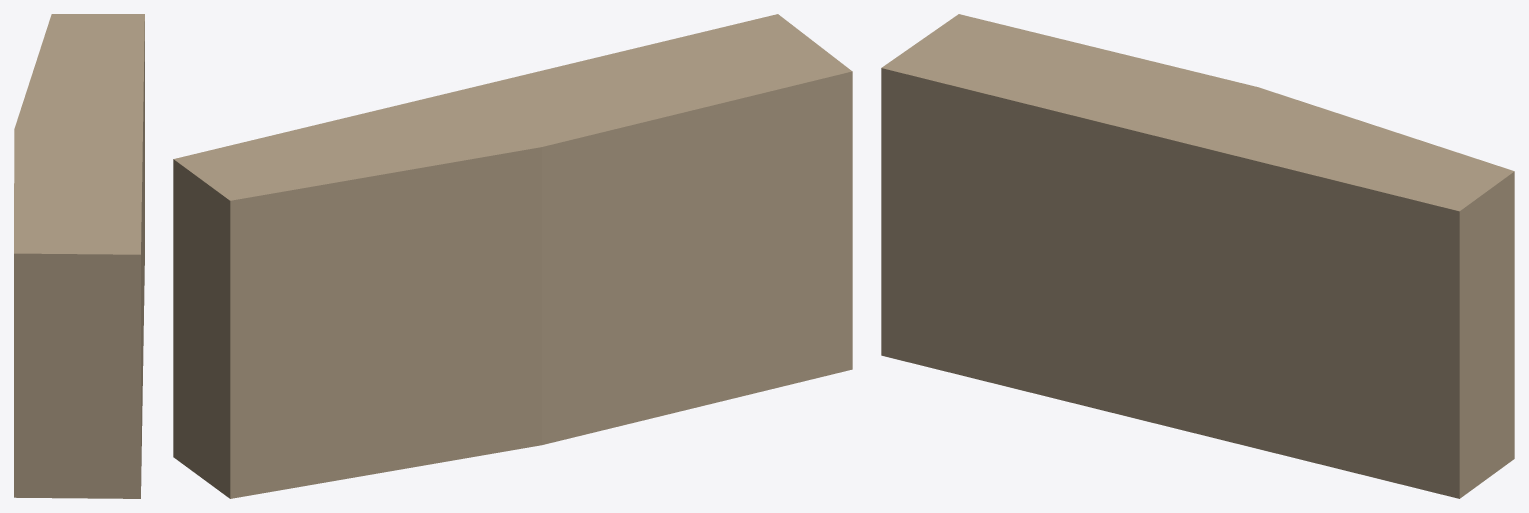
The model's file is bld_99020375.dae.
3 views of the same model, side by side, from view 1: azimuth 30°, elevation 25°; view 2: azimuth 150°, elevation 25°; view 3: azimuth 270°, elevation 25° (orthographic). The views are drawn at different scales.
Parts seen in each view (by area): view 1: bld_99020375; view 2: bld_99020375; view 3: bld_99020375.
Boxes of the visible parts, <box> form: bld_99020375: <box>14,14,144,498</box>; bld_99020375: <box>173,14,852,498</box>; bld_99020375: <box>881,14,1514,498</box>.
Size of the model in its own units: 11.78 by 15.97 by 8.
